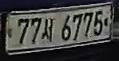5: (94, 8, 104, 37)
6: (60, 14, 72, 42)
7: (16, 17, 30, 45), (30, 15, 42, 46), (82, 11, 94, 38), (72, 13, 83, 40)
서: (42, 15, 55, 44)
